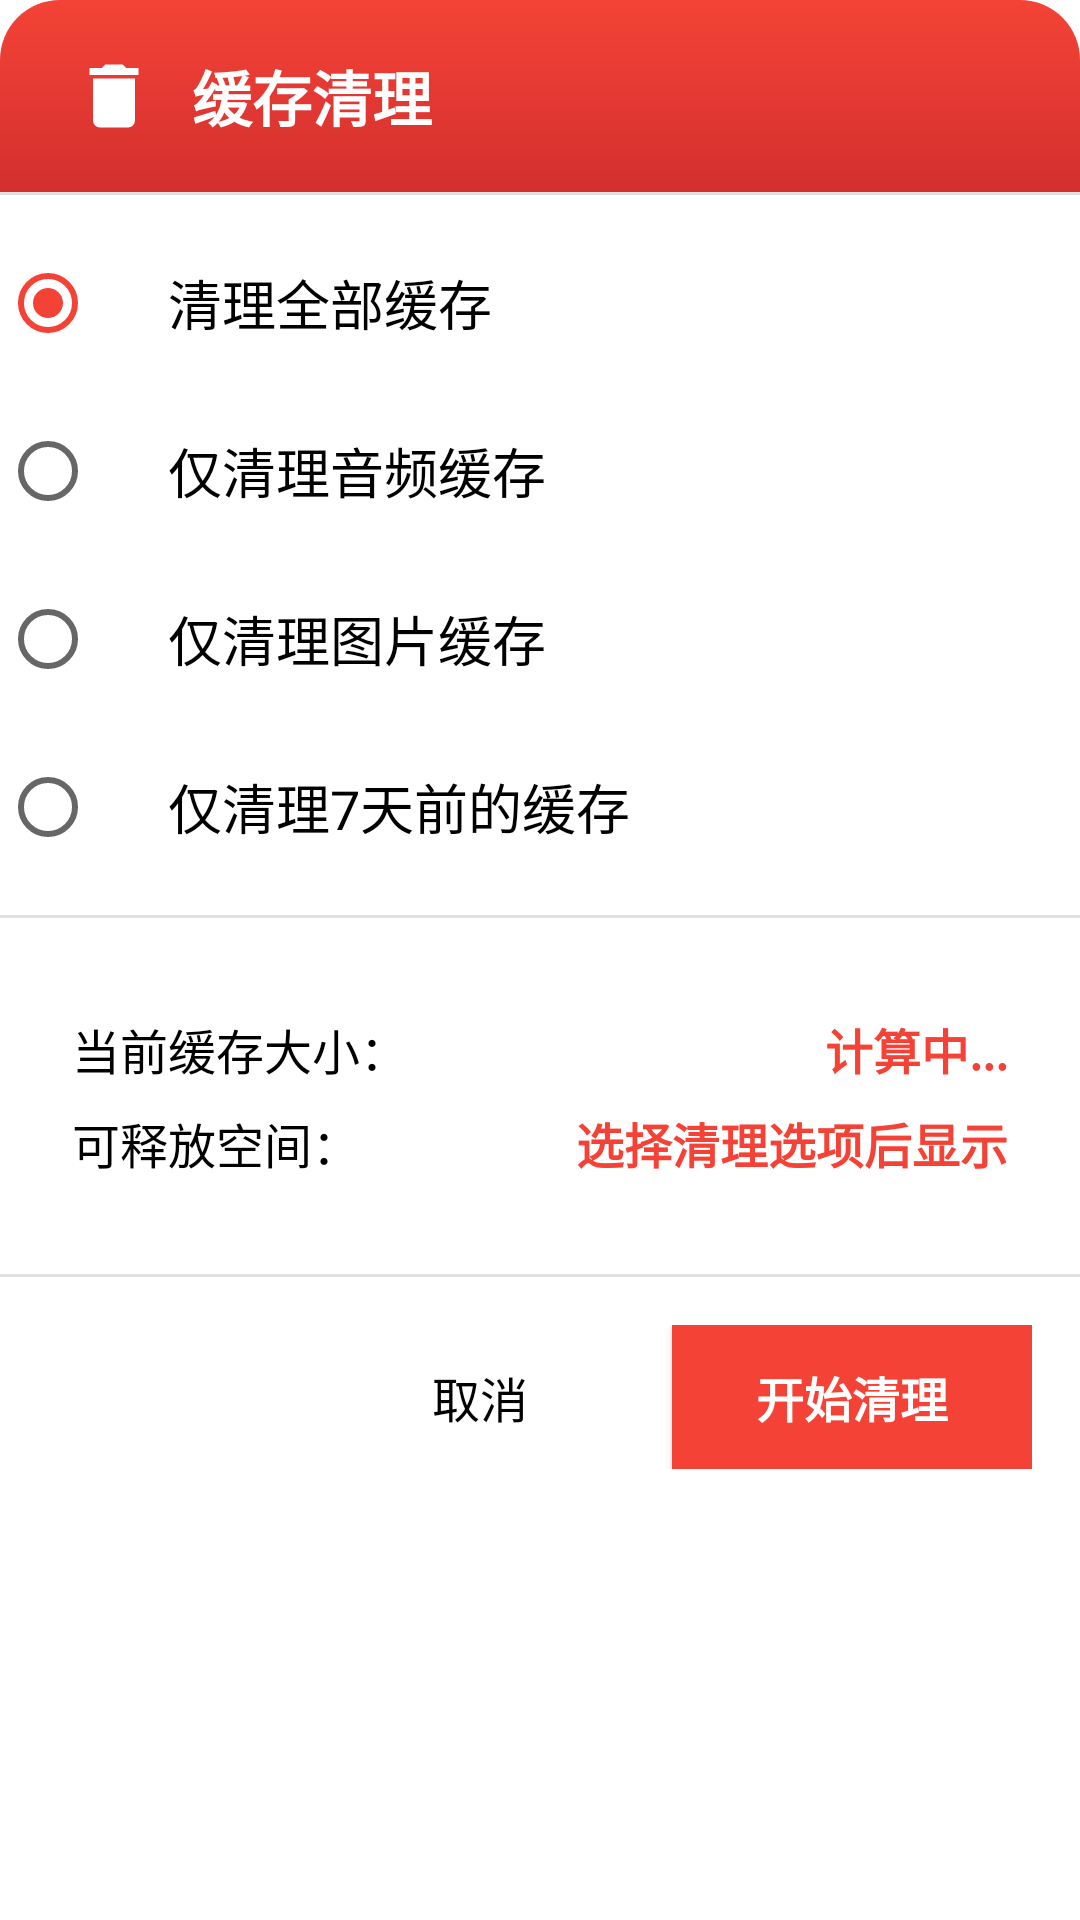

Icon click points for this 1080px×1920px phone screenshot, format [x,y]:
clear cache: [114,96]
